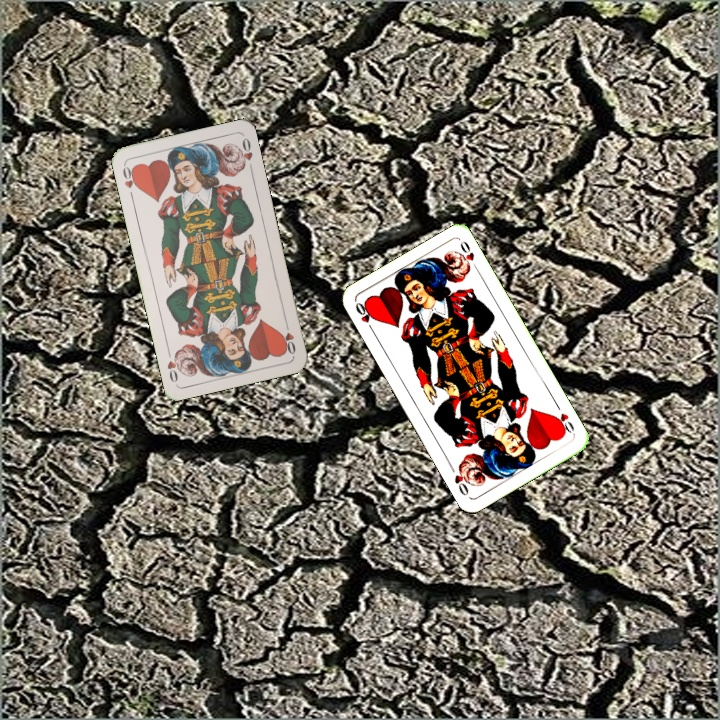HO: (550, 400, 577, 436), (351, 298, 377, 335), (119, 161, 141, 201), (278, 317, 298, 357)
